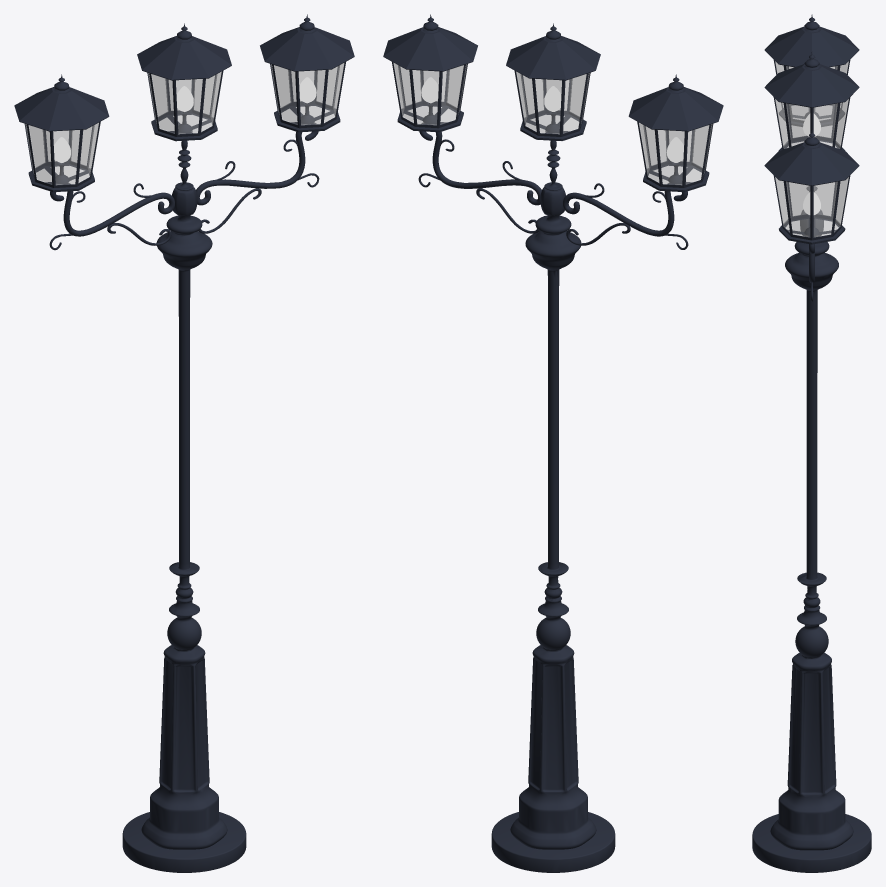
The model's file is automatron-latern.glb.
3 views of the same model, side by side, from view 1: azimuth 30°, elevation 25°; view 2: azimuth 150°, elevation 25°; view 3: azimuth 270°, elevation 25° (orthographic). The views are drawn at different scales.
Visible parts, largest first — view 1: Cylinder.001; view 2: Cylinder.001; view 3: Cylinder.001.
Boxes of the visible parts, left/top/right/bottom form: Cylinder.001: left=14, top=14, right=354, bottom=872; Cylinder.001: left=383, top=14, right=723, bottom=872; Cylinder.001: left=752, top=14, right=871, bottom=872.
Bounding box in the file's own units: 1.85 × 4.41 × 0.5993.
